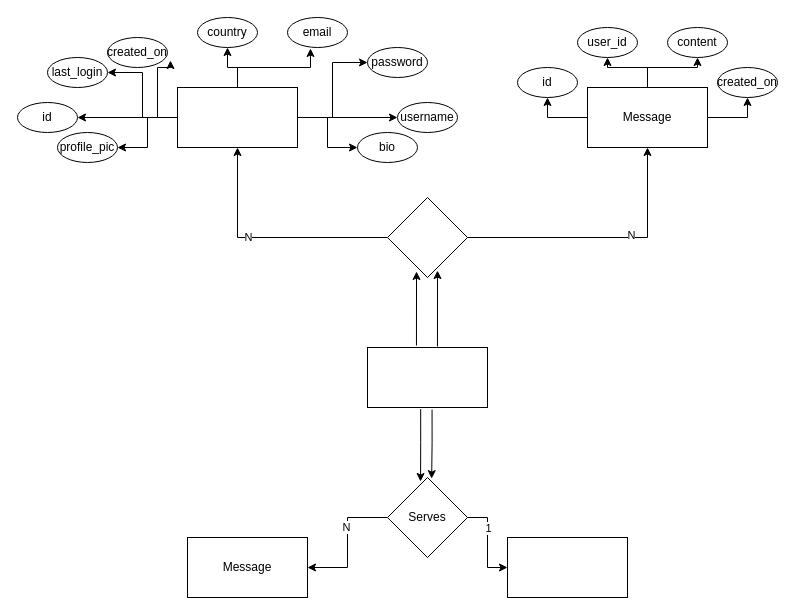
The diagram is 795 pixels wide and 615 high, and some of its shapes have lost their labels. Each missing label, with the centre of its shape:
"Account" goes at point (237, 117).
"Accountpage" goes at point (567, 567).
"Project" goes at point (427, 377).
"stores" goes at point (427, 237).
